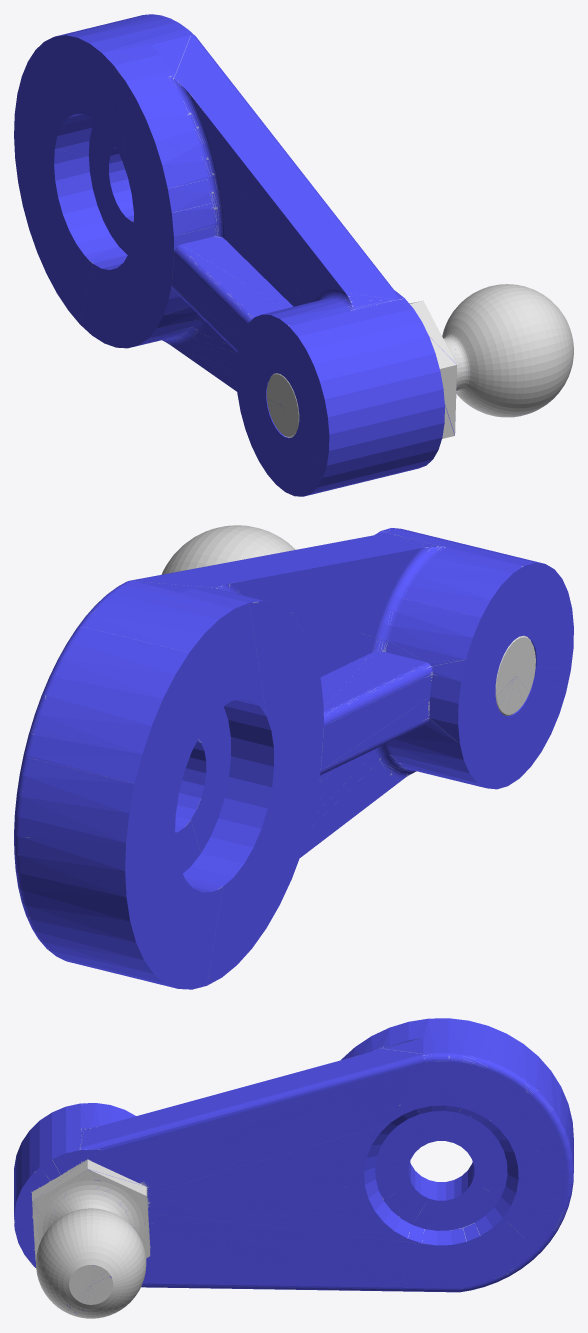
File: Servo_Horn.dae
3 renders of one model, top to bottom at view 1: azimuth 30°, elevation 25°; view 2: azimuth 150°, elevation 25°; view 3: azimuth 270°, elevation 25°, orthographic. The views are drawn at different scales.
Visible parts, largest first — view 1: node; view 2: node; view 3: node.
Boxes of the visible parts, x1,y1,x2,y2 form: node: (14, 14, 573, 496); node: (14, 525, 573, 989); node: (14, 1018, 573, 1318).
Bounding box in the file's own units: 0.012 × 0.012 × 0.0253.
1 material, 1 textured.
